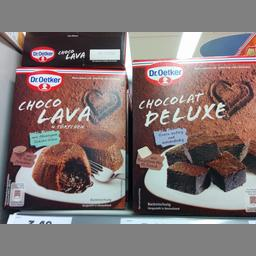cake: (129, 56, 255, 216), (3, 60, 128, 212)
